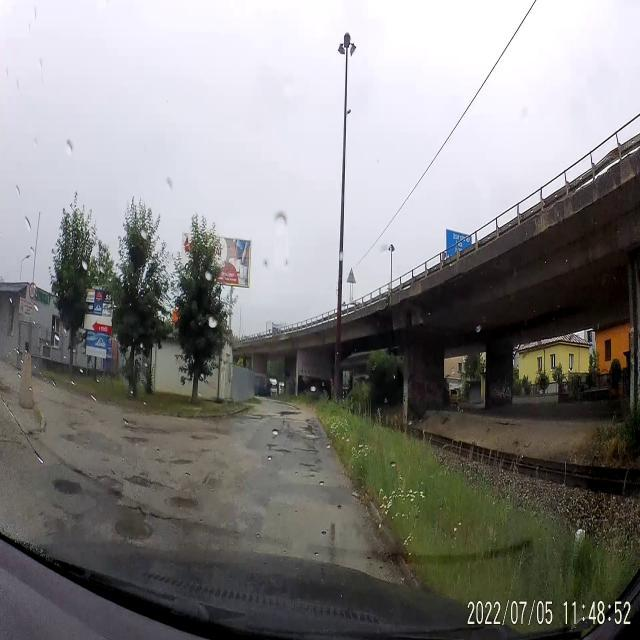Manhole: (113, 512, 153, 543), (49, 472, 84, 498), (163, 492, 198, 514)
Pothole: (295, 444, 328, 478), (124, 470, 169, 492), (92, 471, 124, 496), (122, 424, 172, 436), (122, 434, 152, 448), (299, 424, 320, 442), (270, 446, 290, 462), (168, 458, 192, 468), (248, 412, 268, 422)
